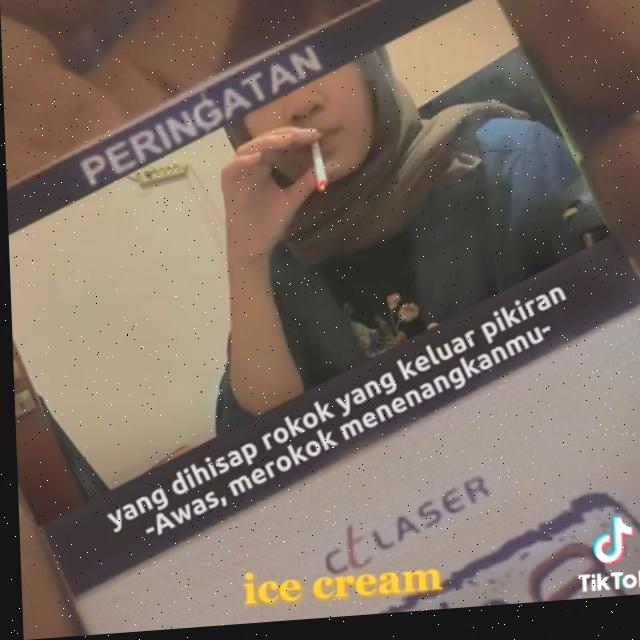cigarette: (310, 143, 327, 197)
